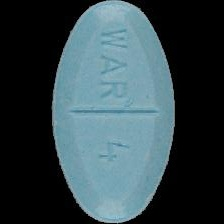50436-6358: (0, 0, 224, 224)
